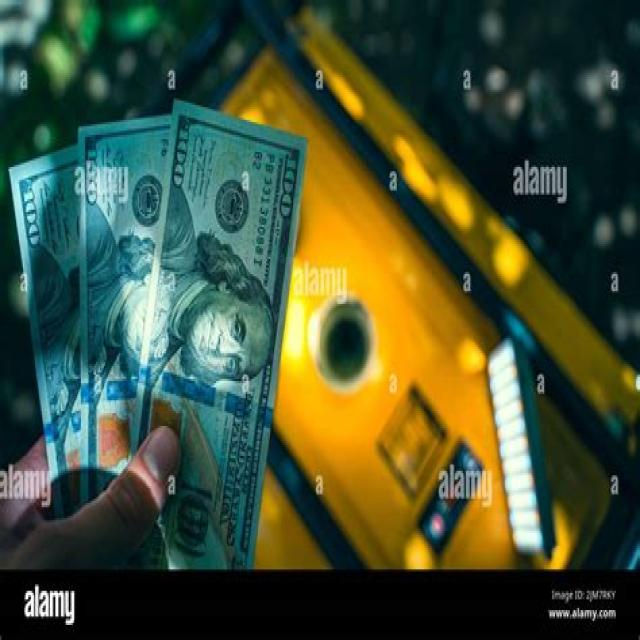Hundred: (129, 105, 306, 572), (78, 110, 178, 514), (11, 144, 81, 512)
